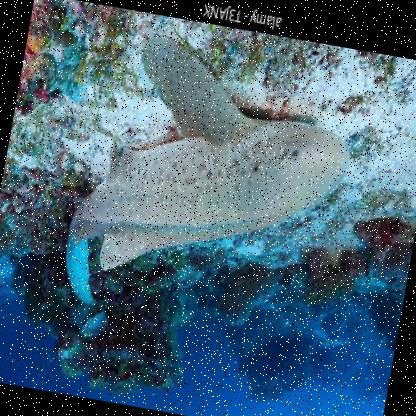zebra_shark: (25, 16, 376, 350)
